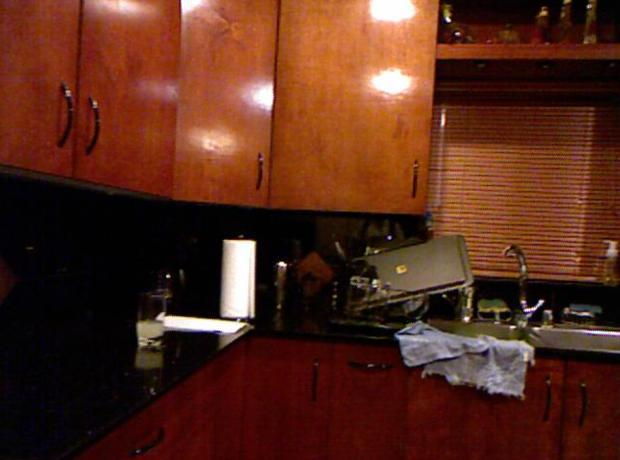Lavaplatos: (415, 234, 618, 361)
